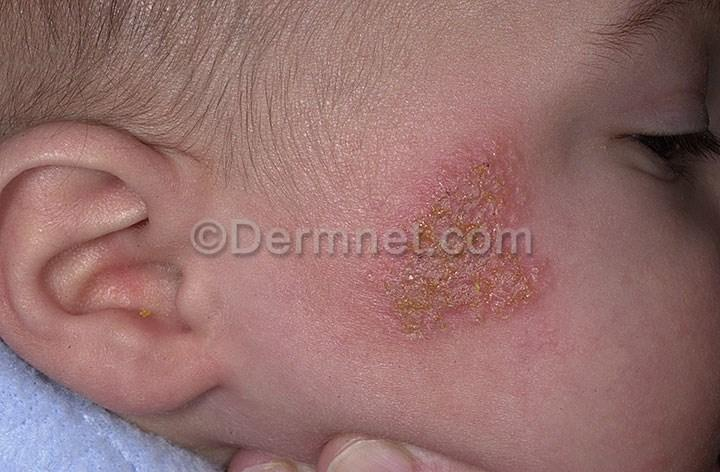Eczema: (373, 255, 555, 335), (398, 127, 555, 219)
